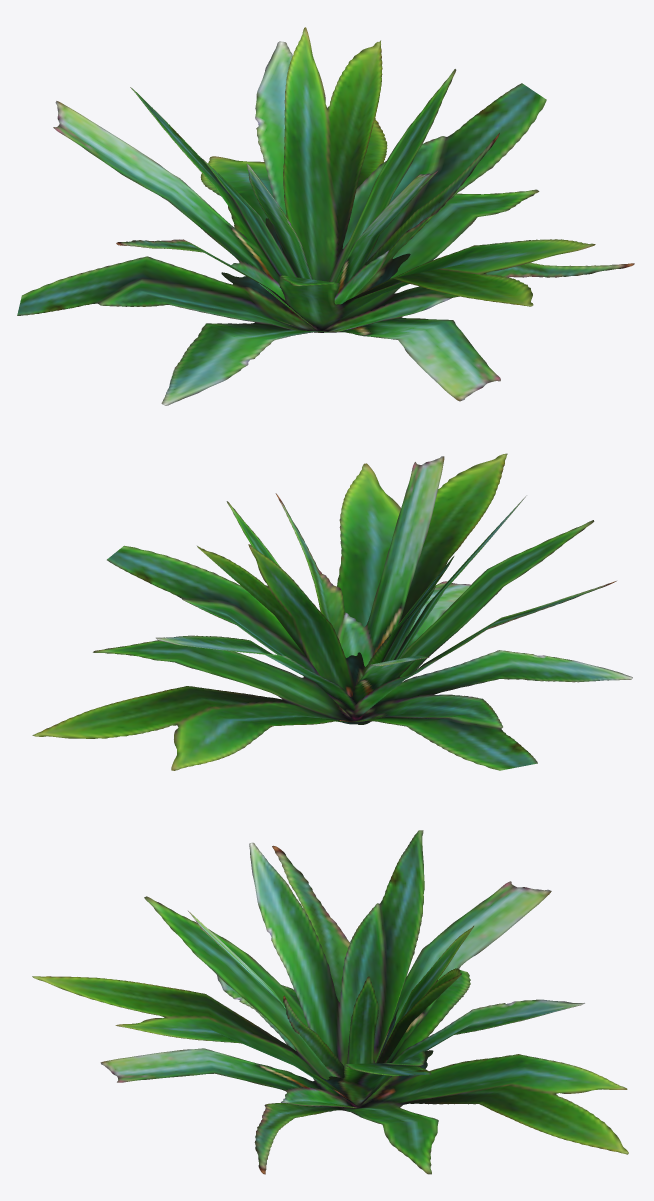
Rendered from m_grass09.fbx.
The picture shows the model from 3 angles, top to bottom: view 1: azimuth 30°, elevation 25°; view 2: azimuth 150°, elevation 25°; view 3: azimuth 270°, elevation 25°; orthographic projection. The views are drawn at different scales.
Visible parts, largest first — view 1: m_grass09; view 2: m_grass09; view 3: m_grass09.
Part boxes in pixels (x1,y1,x2,y2): m_grass09: (17, 27, 634, 405); m_grass09: (32, 453, 632, 770); m_grass09: (32, 830, 628, 1174).
Size of the model in its own units: 1.53 by 0.6675 by 1.75.
